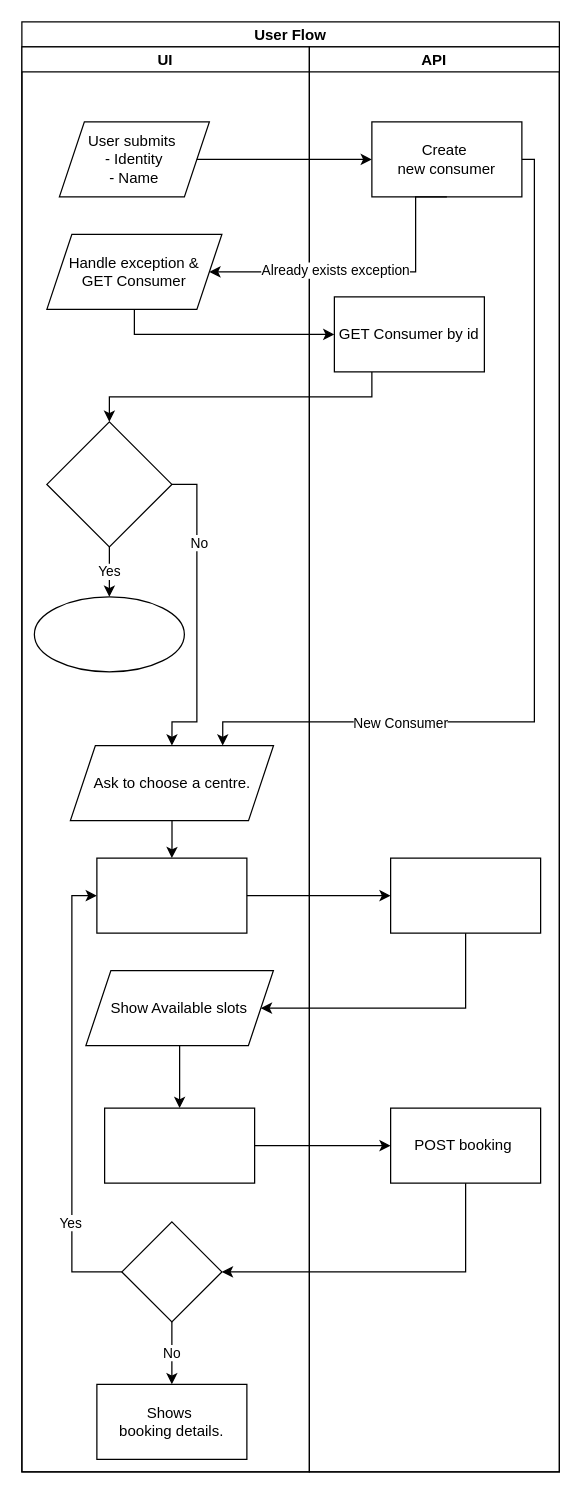
Image size: 581x1494. Some labels were removed from this diagram. Each missing label, with the centre of its shape:
"Booking conflict?" belongs at [171,1271].
"Consumer already has a booking" belongs at [109,484].
"GET available slots" belongs at [465,895].
"Select month and day to get the slots" belongs at [171,895].
"Shows booking details" belongs at [108,634].
"Submit - Identity - Slot" belongs at [179,1145].
